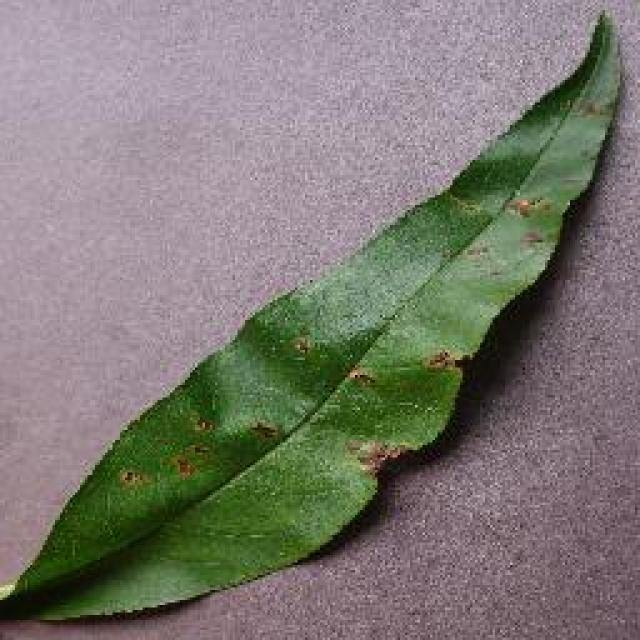Peach_Bacterial_Spot: (342, 158, 512, 490)
